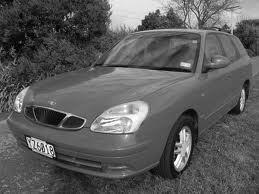car: (9, 28, 255, 182)
